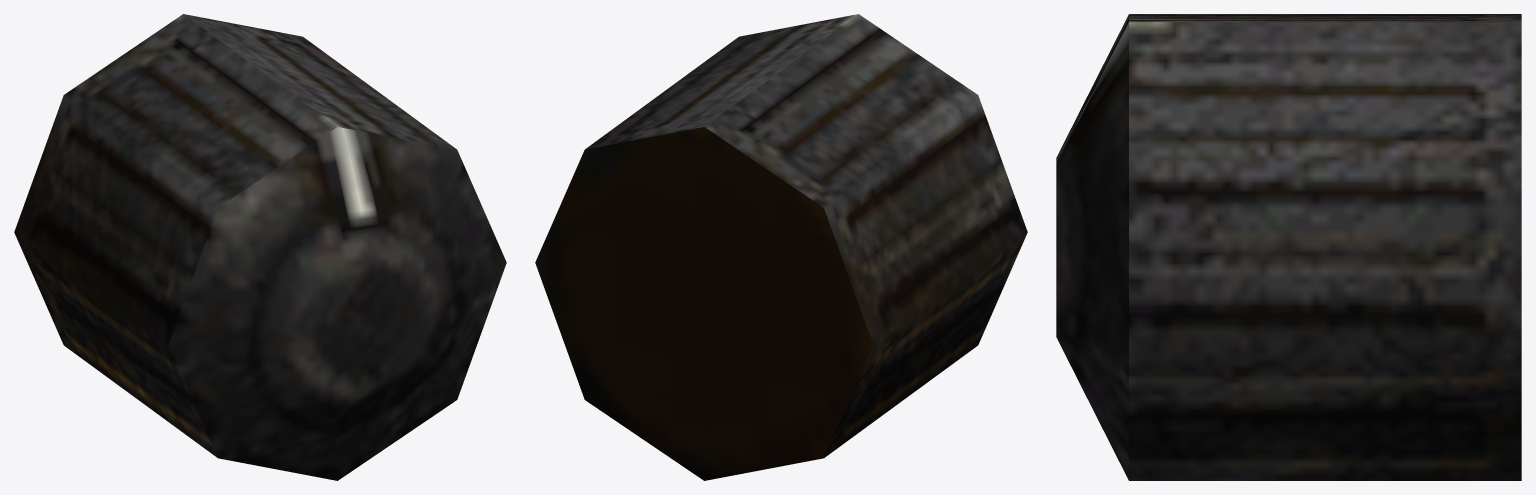
Rendered from electrical_burner_knob.DAE.
The picture shows the model from 3 angles, left to right: view 1: azimuth 30°, elevation 25°; view 2: azimuth 150°, elevation 25°; view 3: azimuth 270°, elevation 25°; orthographic projection. The views are drawn at different scales.
Visible parts, largest first — view 1: Object01; view 2: Object01; view 3: Object01.
Boxes of the visible parts, x1,y1,x2,y2 form: Object01: (14,14,506,480); Object01: (535,14,1027,480); Object01: (1056,14,1521,480).
Bounding box in the file's own units: 0.0356 × 0.0333 × 0.0356.
